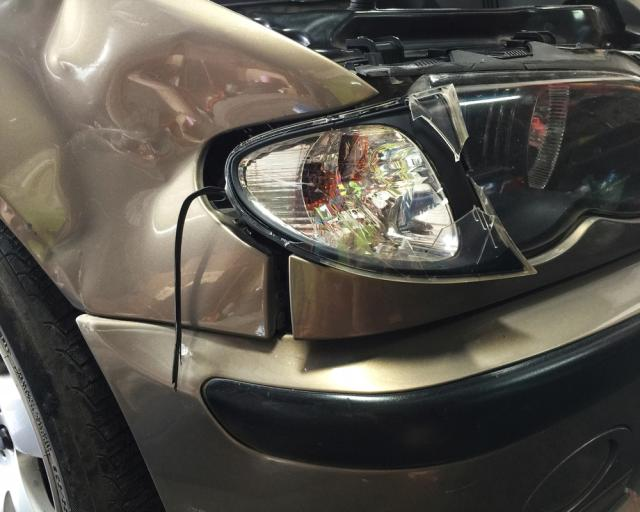dent: (0, 0, 332, 297)
lamp broken: (230, 81, 537, 281)
